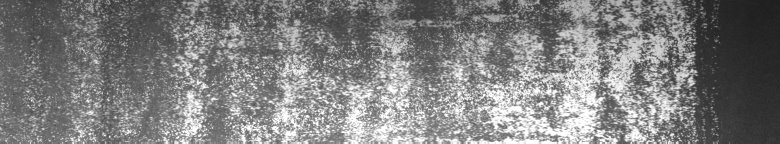kb: (4, 4, 720, 136)
